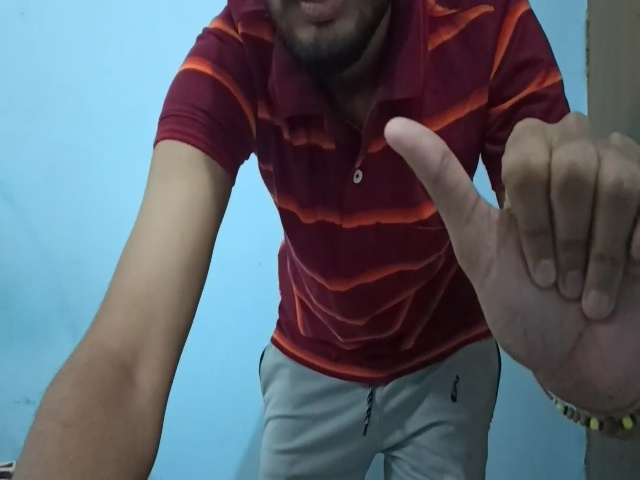A: (384, 113, 640, 409)
